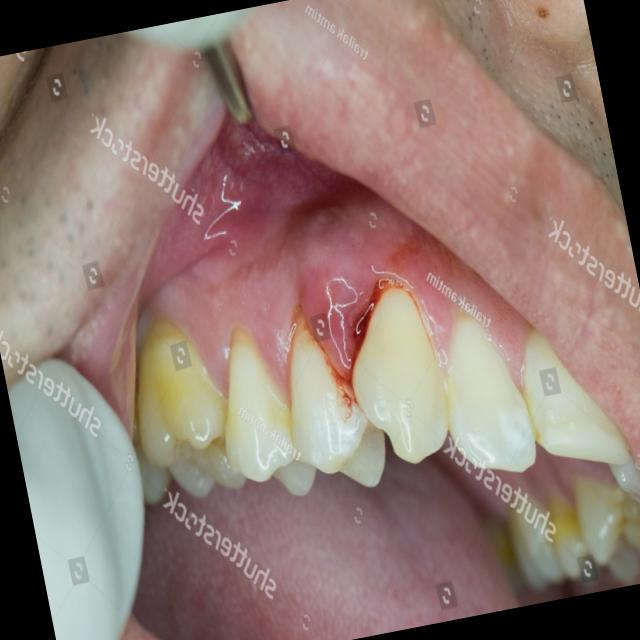abscess: (275, 268, 419, 436)
